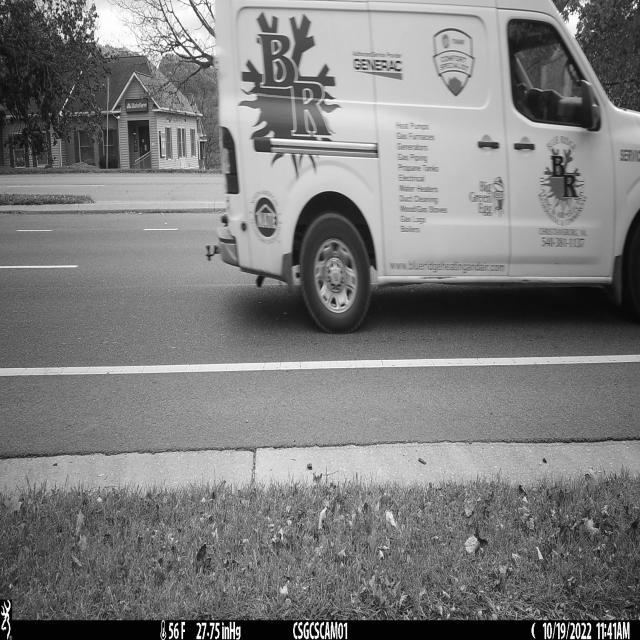Van: (209, 0, 640, 335)
